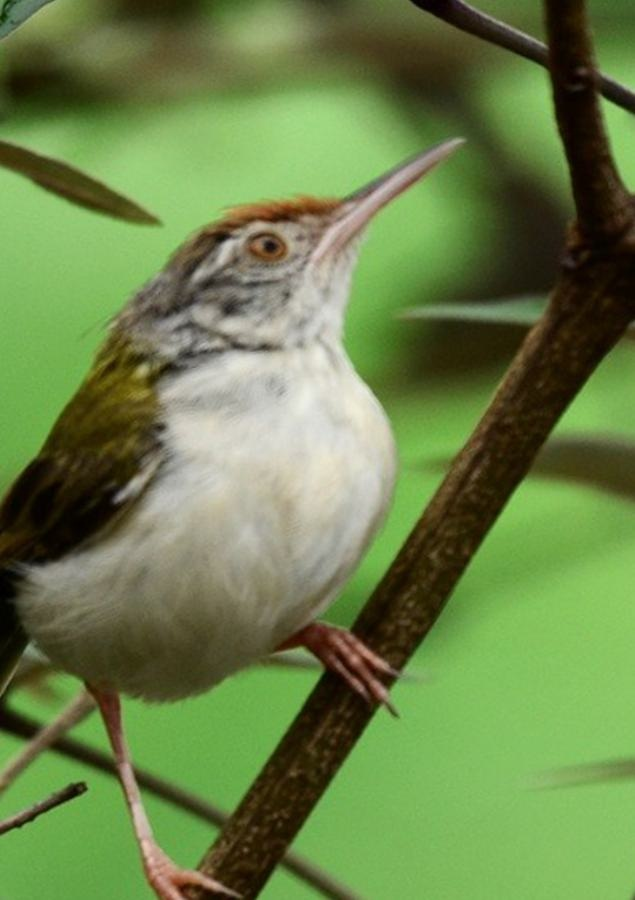tailorbird: (1, 109, 494, 871)
